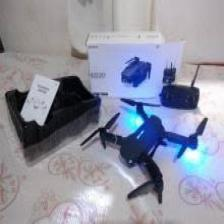drone: (76, 94, 206, 206)
